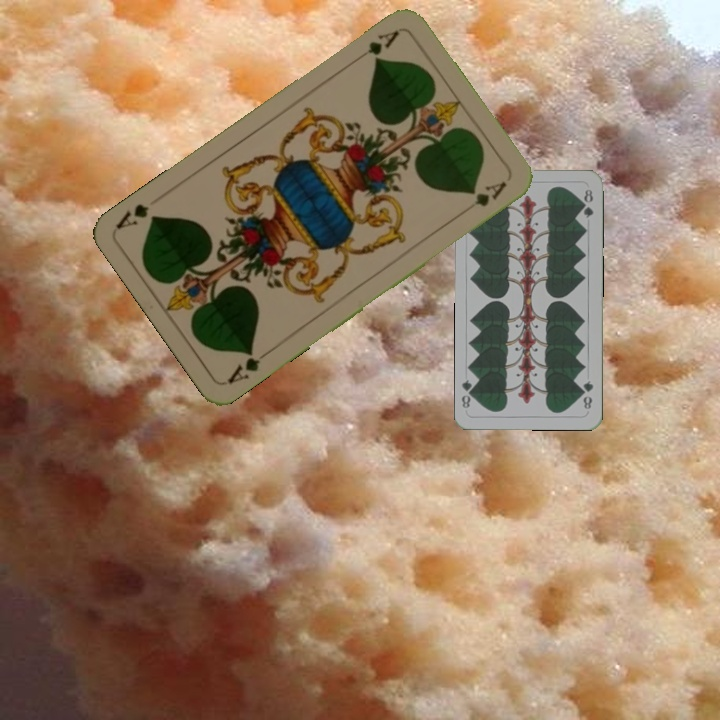G8: (578, 377, 596, 412)
GA: (223, 345, 274, 386), (363, 25, 403, 64)
